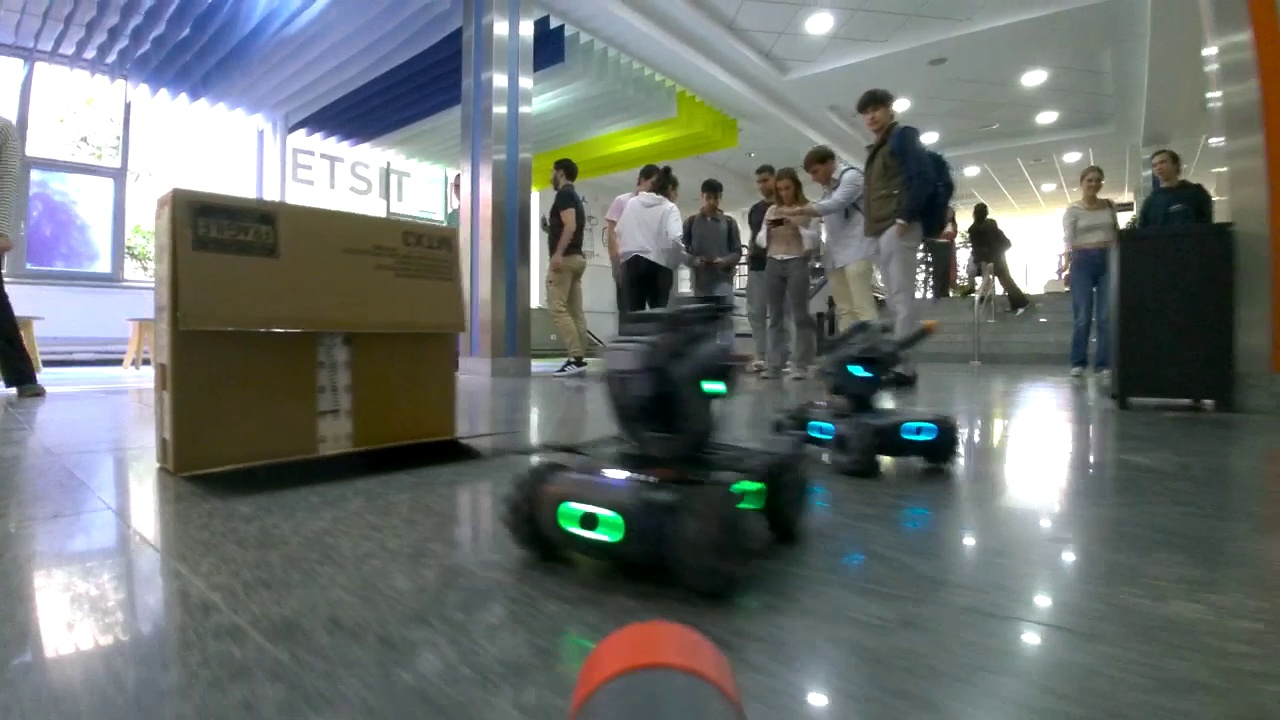robot: (503, 291, 820, 603), (769, 314, 970, 477)
